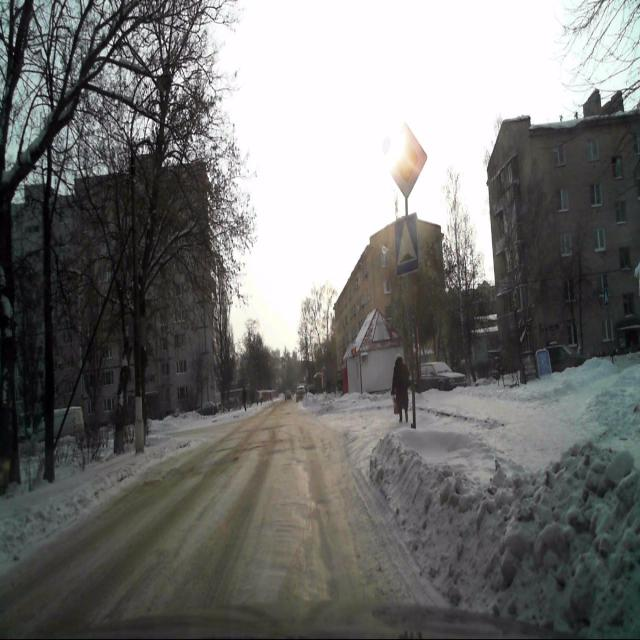object: (385, 118, 428, 198), (408, 276, 418, 429)
road sign: (394, 213, 420, 277)
